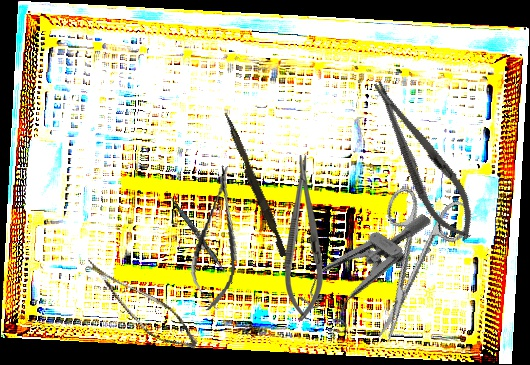Iris Scissors: (341, 178, 477, 354)
Micro Scissor: (70, 259, 210, 356), (184, 163, 251, 313)
Needle Holder: (358, 70, 488, 250), (284, 155, 324, 321)
Pusher: (217, 111, 292, 258)
Spatula Surgical: (163, 190, 236, 284)
Speculum: (290, 182, 433, 348)
